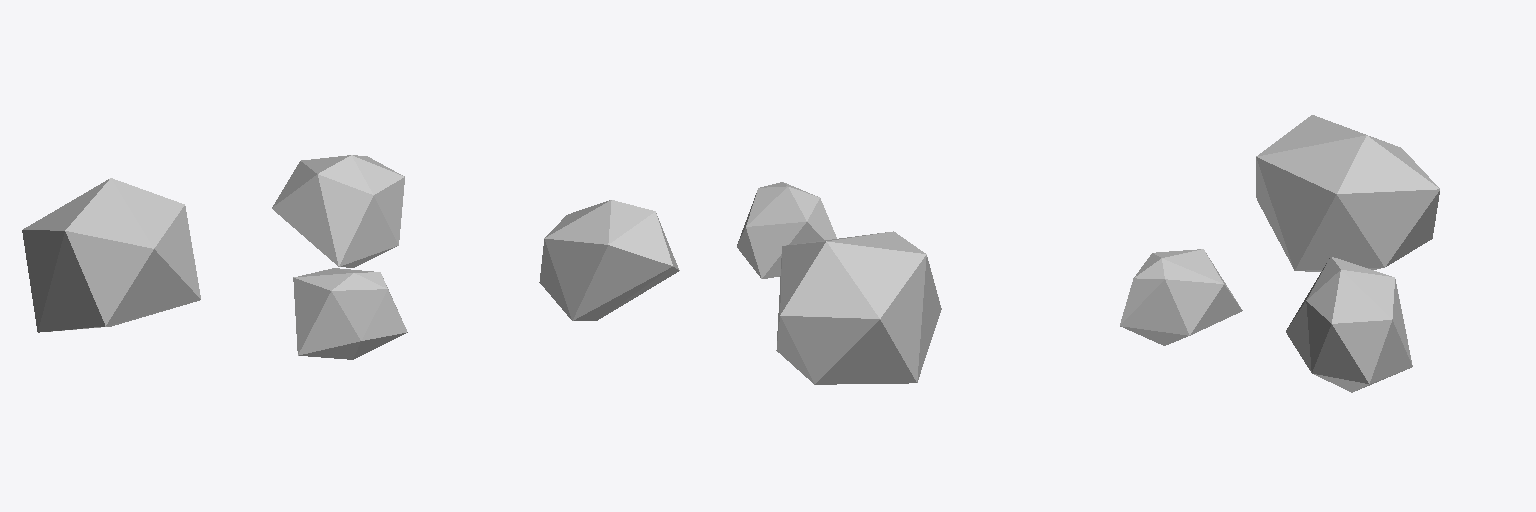
File: rockformation.obj
3 views of the same model, side by side, from view 1: azimuth 30°, elevation 25°; view 2: azimuth 150°, elevation 25°; view 3: azimuth 270°, elevation 25° (orthographic).
Parts seen in each view (by area): view 1: Icosphere.002; view 2: Icosphere.002; view 3: Icosphere.002.
Boxes of the visible parts, box(x1,y1,x2,y2) form: Icosphere.002: box(22, 155, 407, 359); Icosphere.002: box(539, 182, 941, 384); Icosphere.002: box(1120, 115, 1439, 392).
Size of the model in its own units: 4.22 by 1.56 by 3.19.